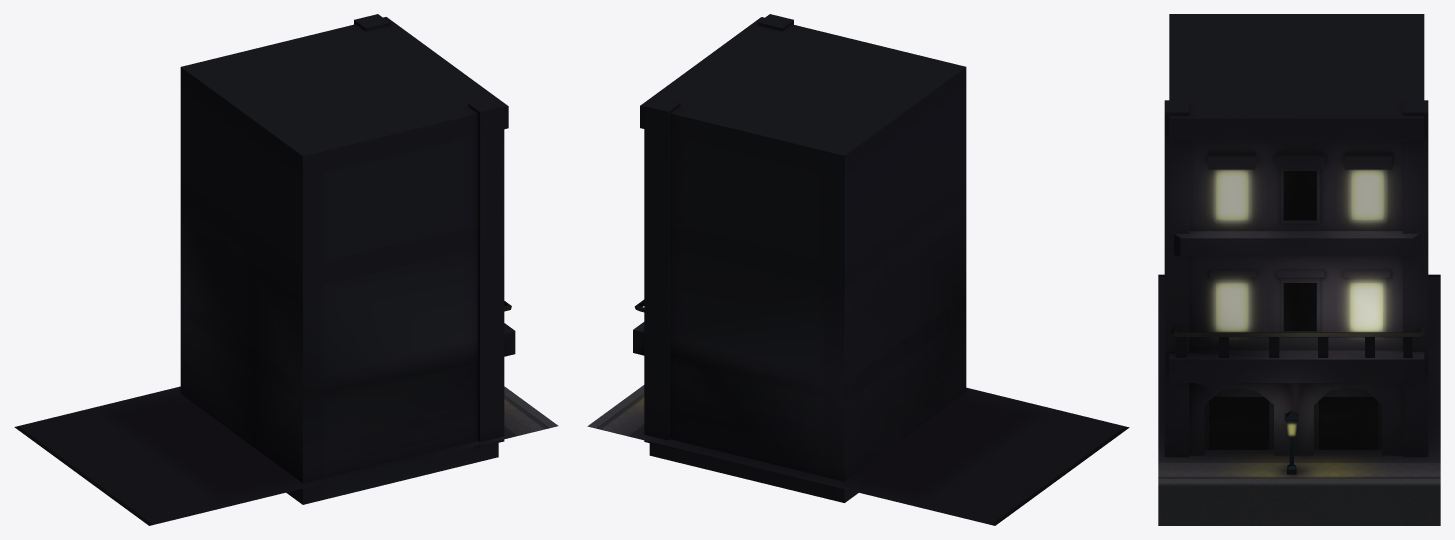
The picture shows the model from 3 angles, left to right: view 1: azimuth 30°, elevation 25°; view 2: azimuth 150°, elevation 25°; view 3: azimuth 270°, elevation 25°; orthographic projection. The views are drawn at different scales.
Parts seen in each view (by area): view 1: modelB001; view 2: modelB001; view 3: modelB001.
Part boxes in pixels (x1,y1,x2,y2): modelB001: (14, 14, 558, 525); modelB001: (587, 14, 1129, 525); modelB001: (1158, 14, 1440, 525).
Size of the model in its own units: 7 by 6.05 by 4.
1 material, 1 textured.
